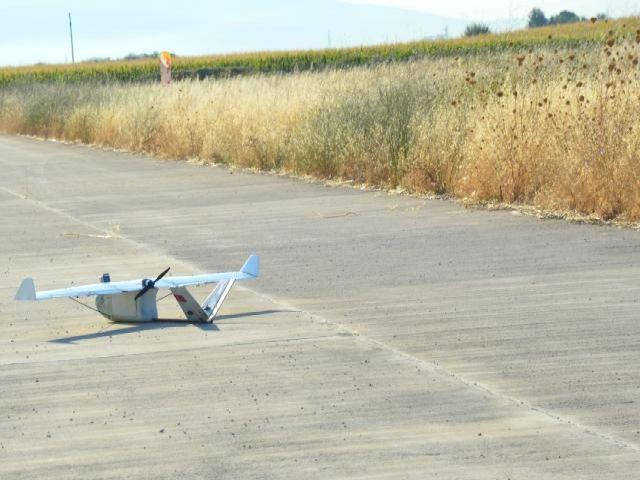iha: (14, 243, 263, 323)
